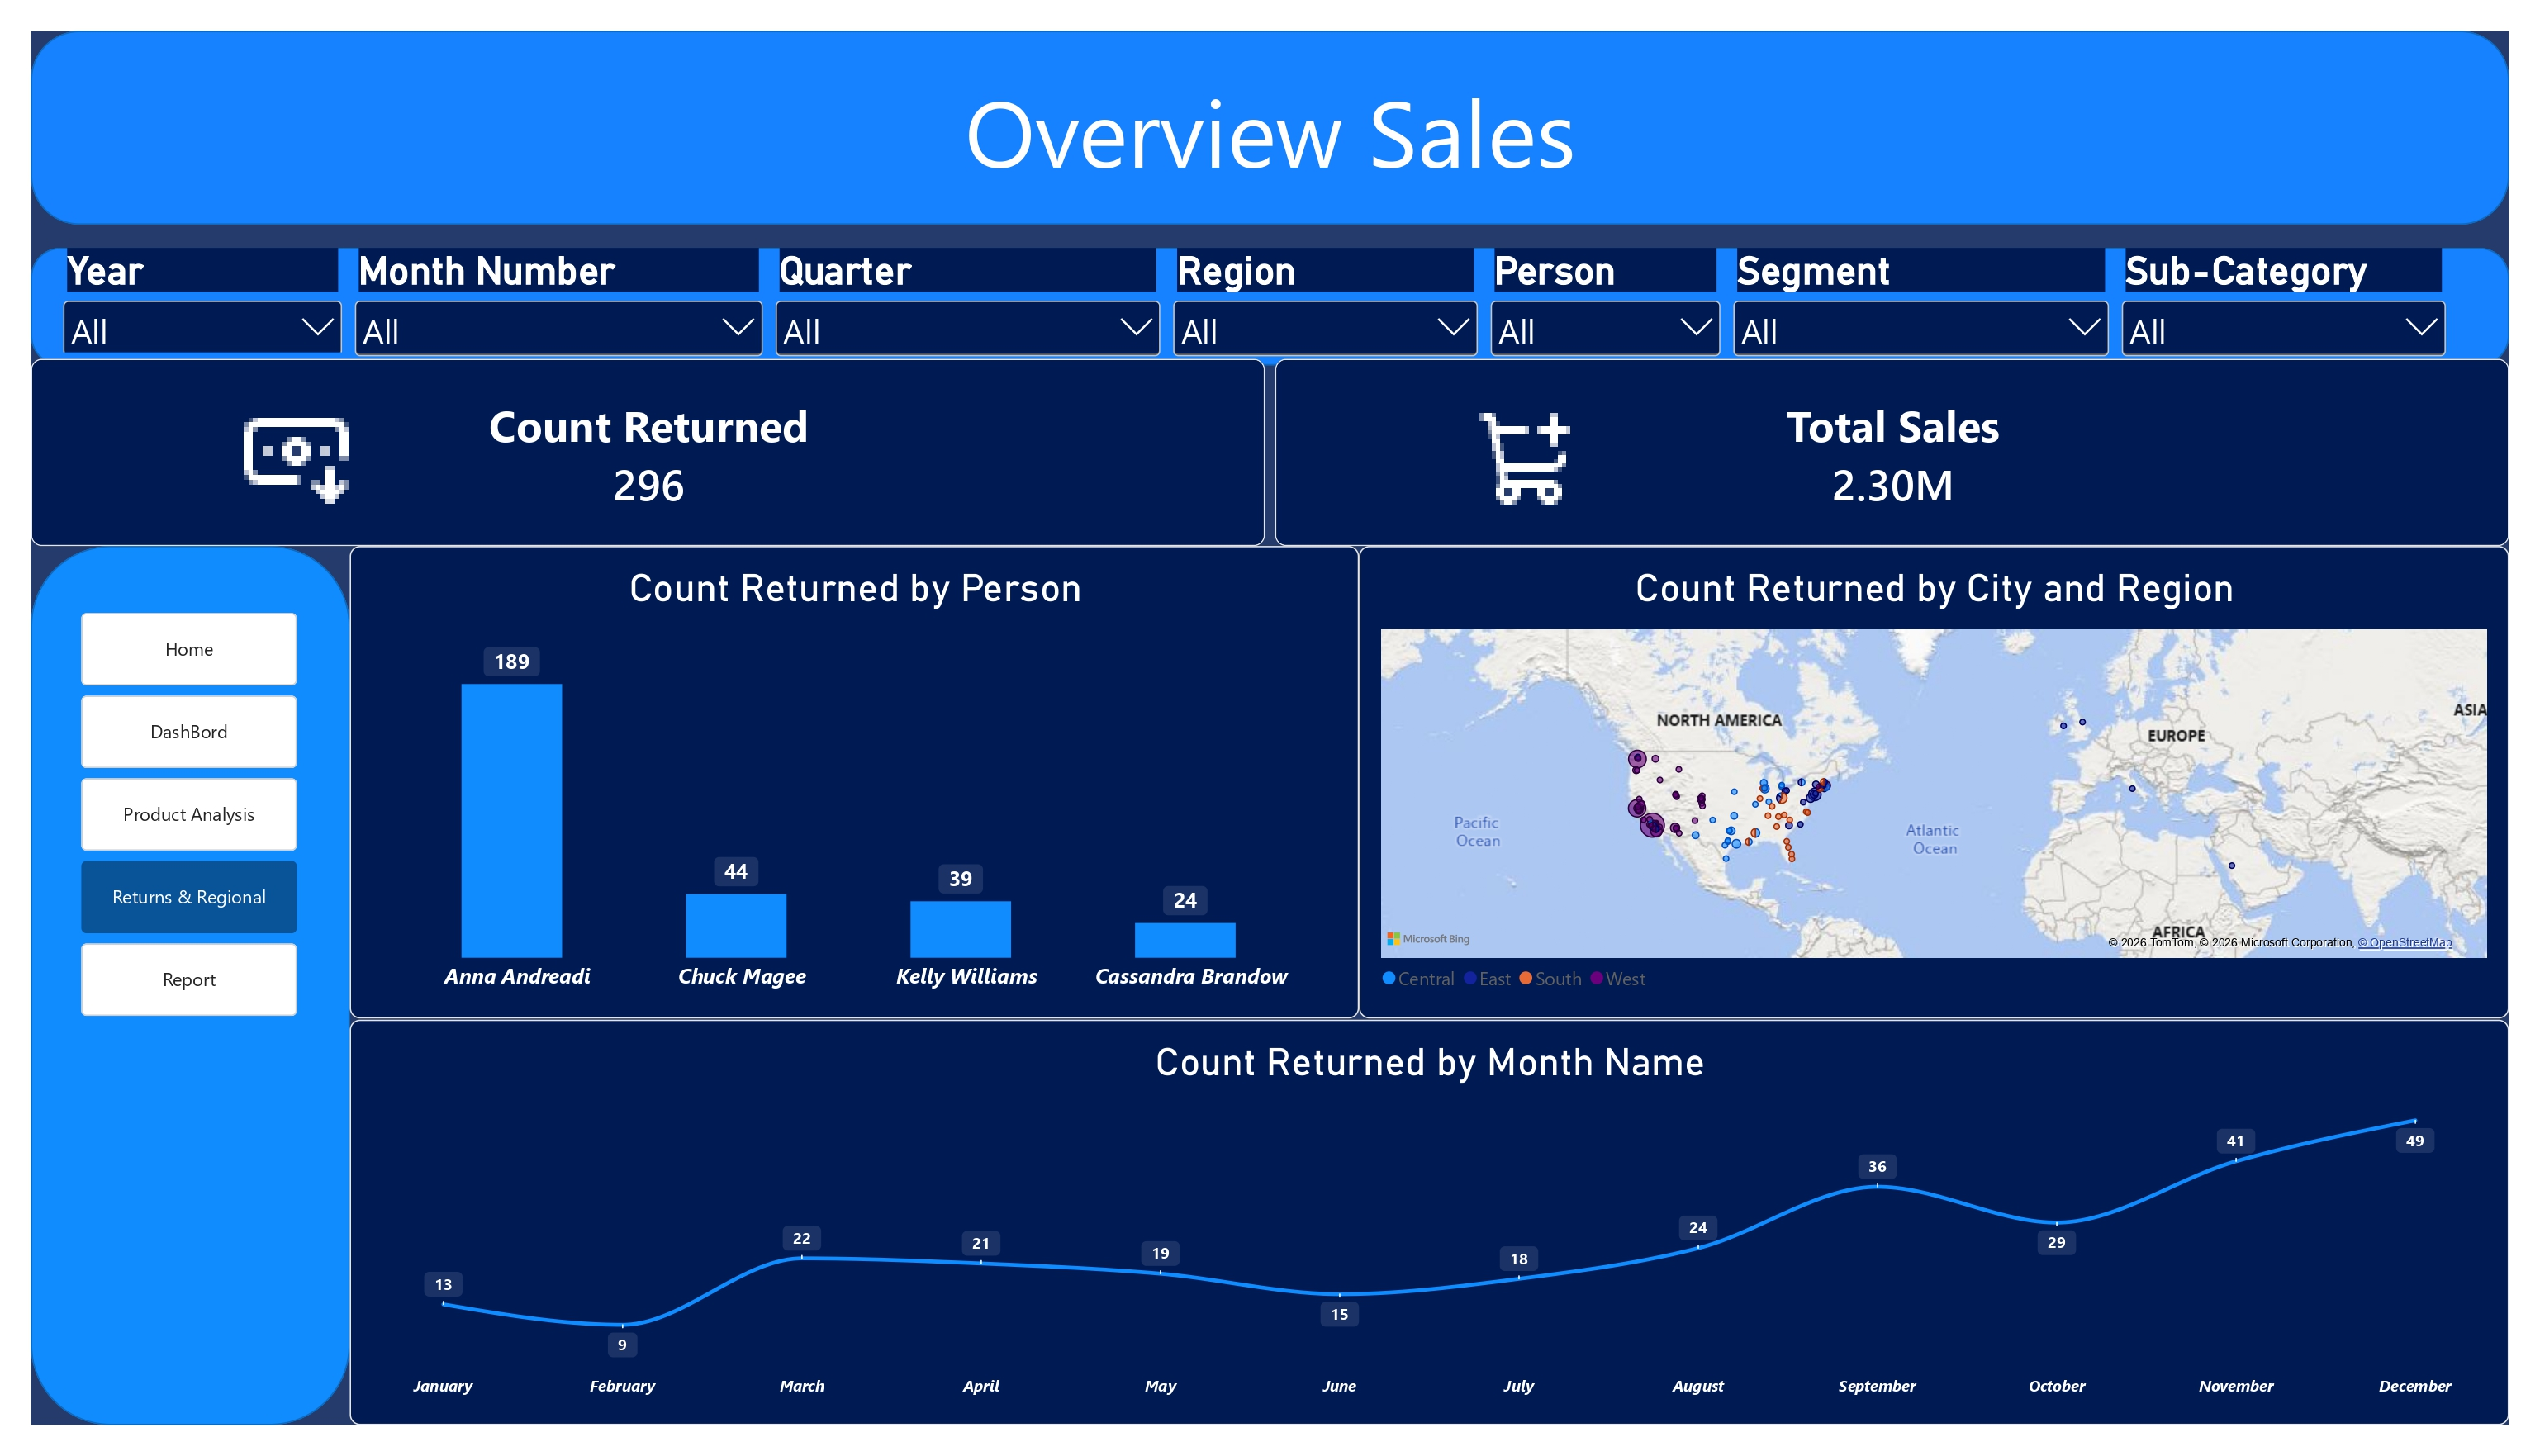

What the dashboard file says about the page in this screenshot:
{"tool":"powerbi","page":{"name":"Returns & Regional","canvas":[1920,1080],"ordinal":3},"visuals":[{"type":"shape","box":[0,399,247,681],"z":0},{"type":"shape","box":[0,0,1920,150],"z":1000},{"type":"textbox","box":[0,28.3,1920,121.5],"z":2000},{"type":"shape","box":[0,168.1,1920,90.4],"z":3000},{"type":"slicer","fields":{"Values":["DateTable.Year"]},"box":[19.6,167.9,226.6,81.5],"z":4000},{"type":"slicer","fields":{"Values":["DateTable.Month Number"]},"box":[246.1,167.9,326,105.9],"z":5000},{"type":"slicer","fields":{"Values":["DateTable.Quarter"]},"box":[572.1,167.9,308,84.8],"z":6000},{"type":"slicer","fields":{"Values":["Orders.Region"]},"box":[880.1,167.9,246.1,86.4],"z":7000},{"type":"slicer","fields":{"Values":["People.Person"]},"box":[1126.2,167.9,187.4,84.8],"z":8000},{"type":"slicer","fields":{"Values":["Orders.Segment"]},"box":[1313.7,167.9,301.5,89.6],"z":9000},{"type":"slicer","fields":{"Values":["Orders.Sub-Category"]},"box":[1615.2,167.9,260.8,89.6],"z":10000},{"type":"cardVisual","fields":{"Data":["DAX Measures.Count Returned","DAX Measures.Total Sales"]},"box":[0,254.1,1920,144.5],"z":11000},{"type":"pageNavigator","box":[39.2,451,166.8,314.7],"z":12000},{"type":"lineChart","fields":{"Category":["DateTable.Month Name"],"Y":["DAX Measures.Count Returned"]},"box":[247.5,765.7,1672.5,313.9],"z":13000},{"type":"columnChart","fields":{"Y":["DAX Measures.Count Returned"],"Category":["People.Person"]},"box":[247.4,399.2,781.9,366.2],"z":14000},{"type":"map","fields":{"Size":["DAX Measures.Count Returned"],"Series":["People.Region"],"Category":["Orders.City"]},"box":[1029,399,891,366],"z":15000},{"type":"image","box":[141,280.6,127.7,89.1],"z":15001},{"type":"image","box":[1110.6,292.6,93.1,77.1],"z":15002}]}

Visuals, with their boxes on the page's 1920x1080 design canvas (x1, y1, x2, y2). These are canvas units, not pixel positions in the 2540x1456 screenshot, which may show the page scaled, cropped or inside an application window:
shape: 0:399:247:1080
shape: 0:0:1920:150
textbox: 0:28:1920:150
shape: 0:168:1920:258
slicer - DateTable.Year: 20:168:246:249
slicer - DateTable.Month Number: 246:168:572:274
slicer - DateTable.Quarter: 572:168:880:253
slicer - Orders.Region: 880:168:1126:254
slicer - People.Person: 1126:168:1314:253
slicer - Orders.Segment: 1314:168:1615:258
slicer - Orders.Sub-Category: 1615:168:1876:258
cardVisual - DAX Measures.Count Returned x DAX Measures.Total Sales: 0:254:1920:399
pageNavigator: 39:451:206:766
lineChart - DateTable.Month Name x DAX Measures.Count Returned: 248:766:1920:1080
columnChart - DAX Measures.Count Returned x People.Person: 247:399:1029:765
map - DAX Measures.Count Returned x People.Region: 1029:399:1920:765
image: 141:281:269:370
image: 1111:293:1204:370
